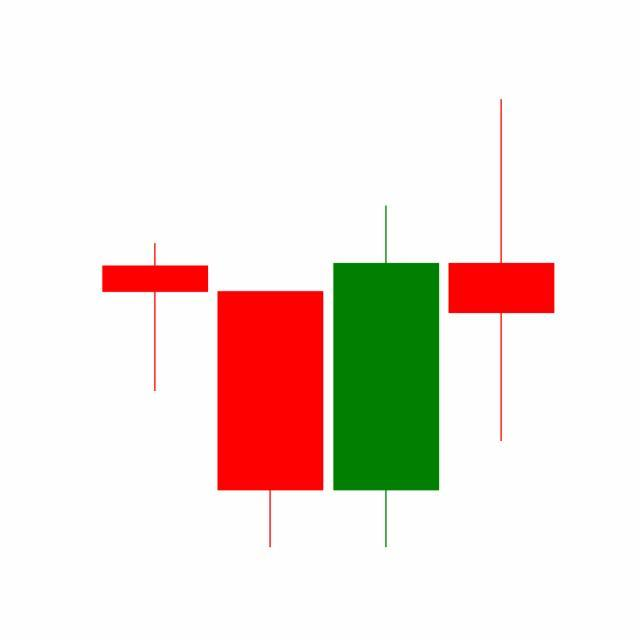Spinning Top: (444, 96, 560, 446)
